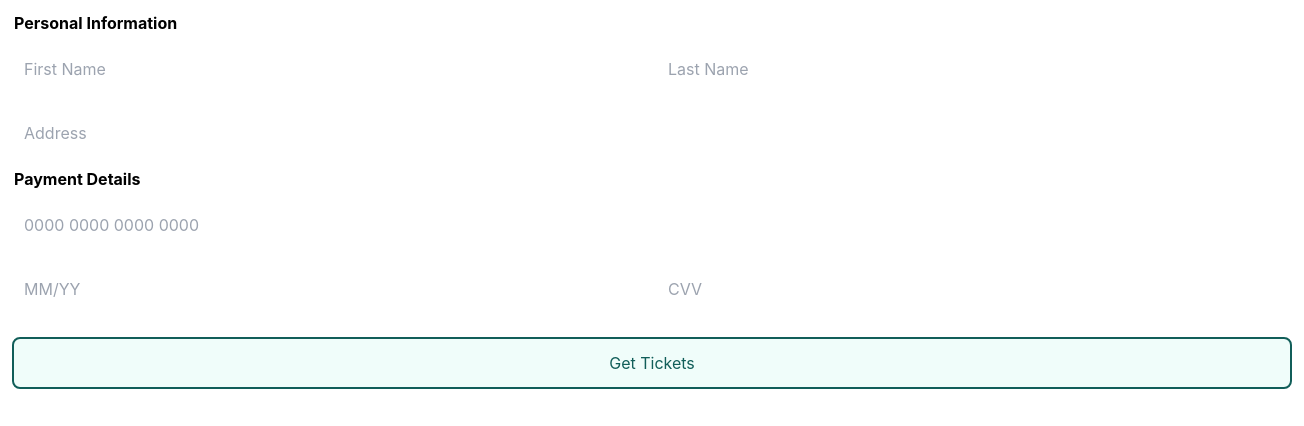
PersonalInformationForm › shows error when expiry is not in MM/YY format
Step 1. Type "2025-12" into the field named "expiry" → coordinates (330, 289), box top-left (12, 265), bottom-right (648, 313)
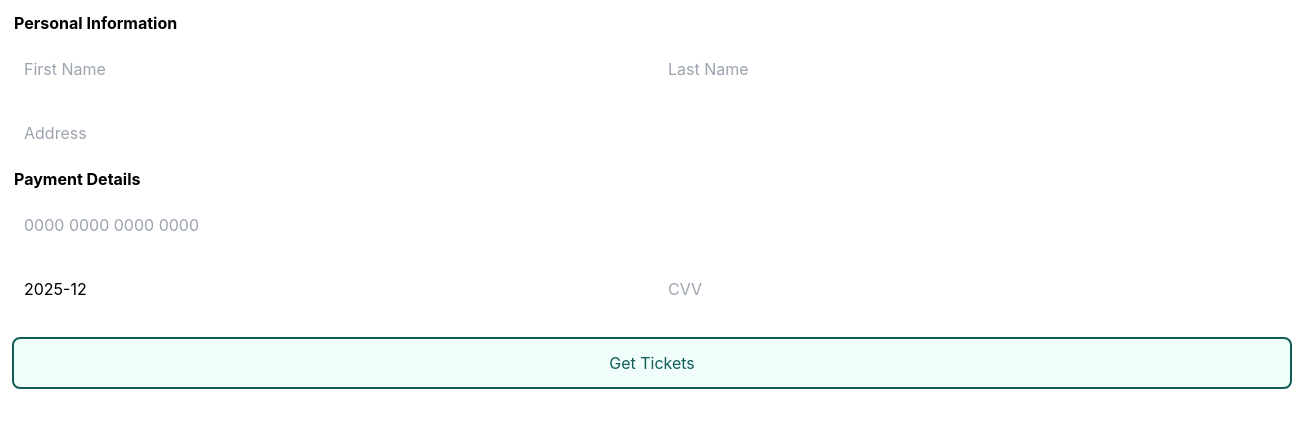
Step 2. Leave the field named "expiry", box top-left (12, 265), bottom-right (648, 313)
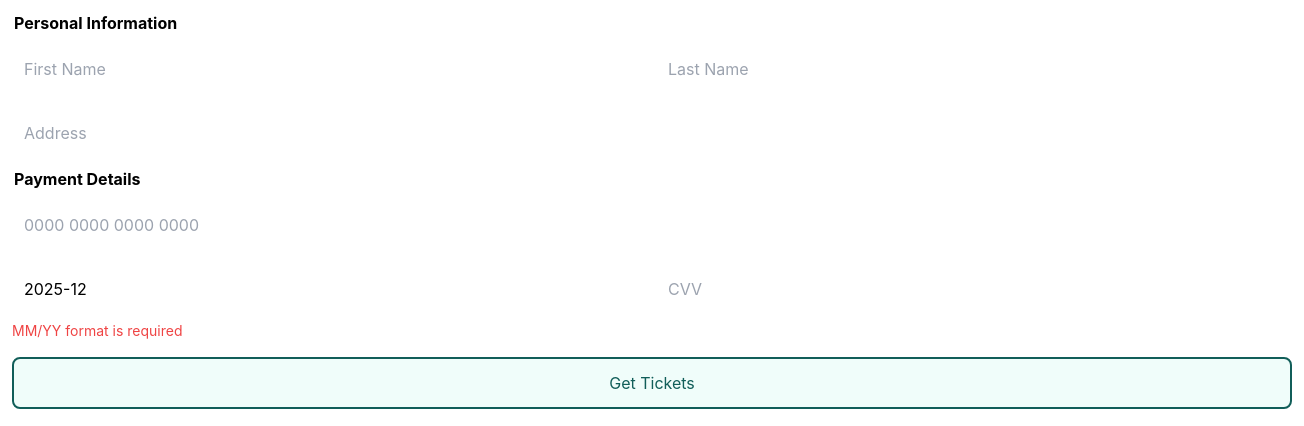
Now the text "MM/YY format is required" is shown, box top-left (12, 322), bottom-right (182, 339)
